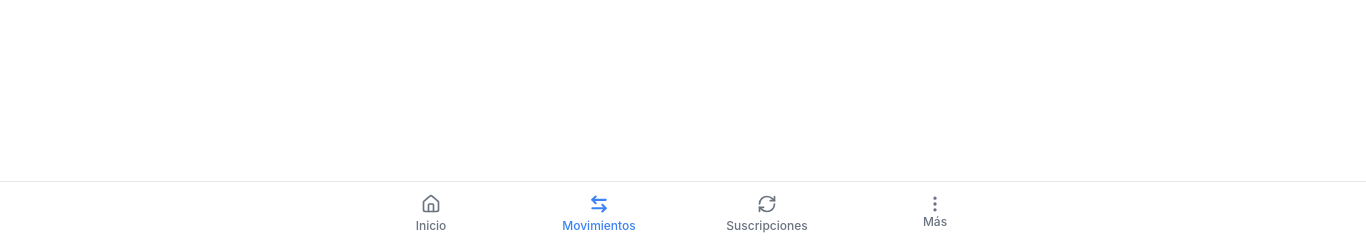
Test: BottomNav › Más overflow menu › shows overflow items when Más is clicked
The image size is (1366, 246).
Click the button "Más" at (935, 212), box [851,182,1019,242]
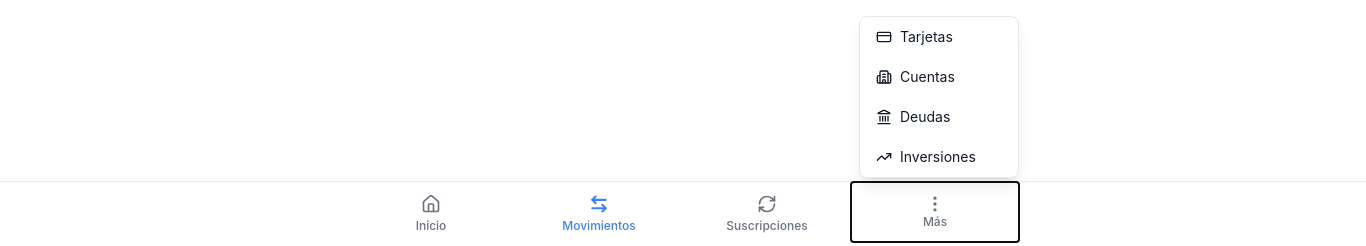
Result: the link "Tarjetas" is shown at [876,28,953,45]
Result: the link "Cuentas" is shown at [876,68,955,85]
Result: the link "Deudas" is shown at [876,108,950,125]
